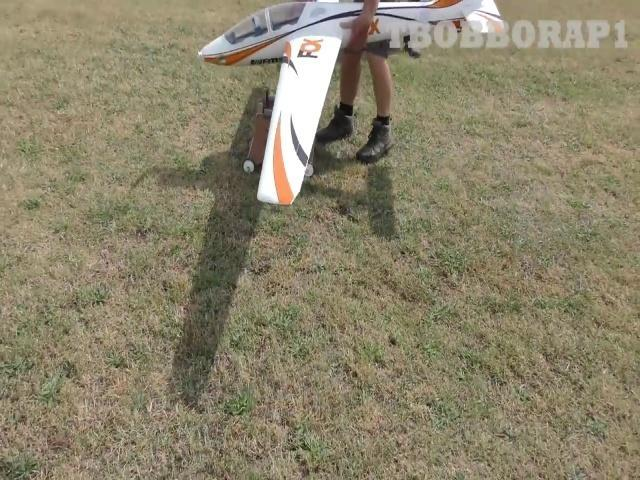Airplane: (199, 1, 503, 204)
